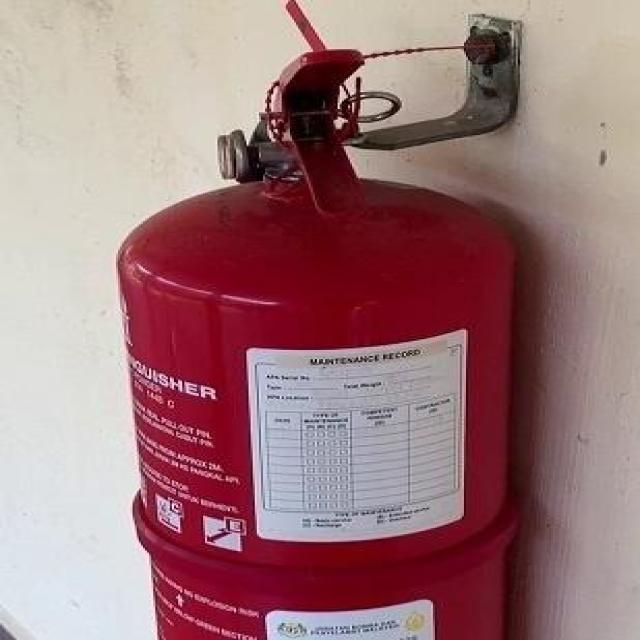fire_extinguisher: (102, 41, 534, 638)
